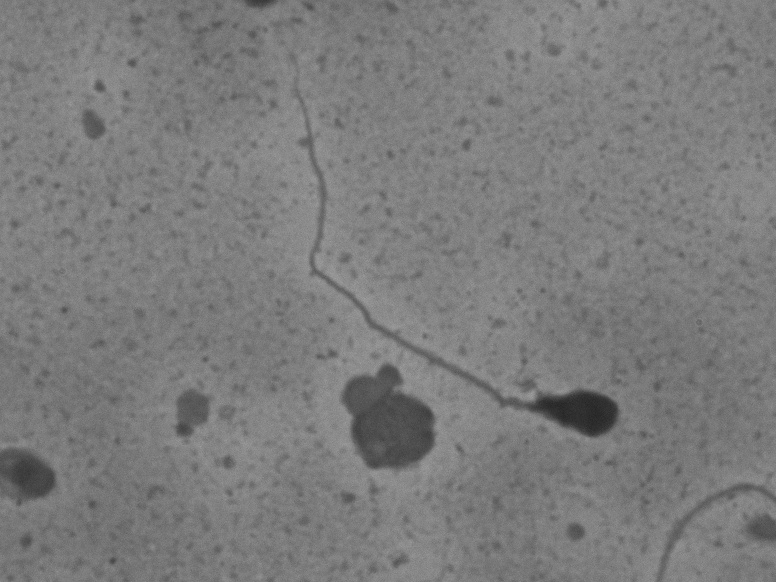Abnormal: (271, 41, 650, 451)
